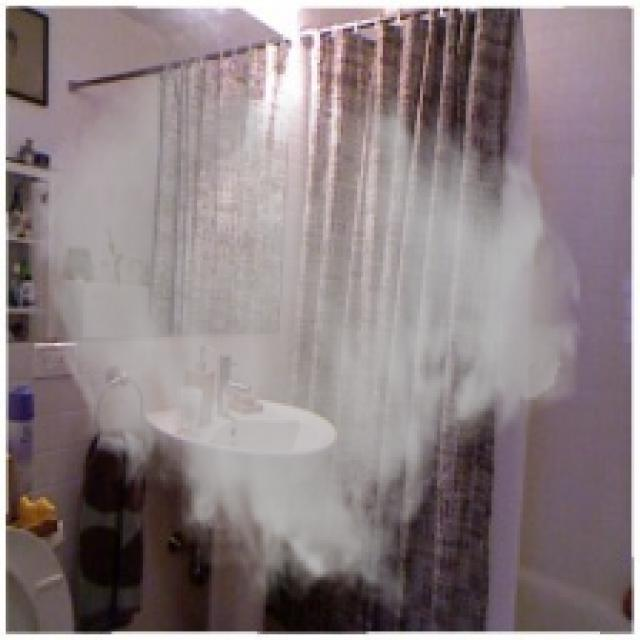Smoke: (26, 54, 588, 620)
